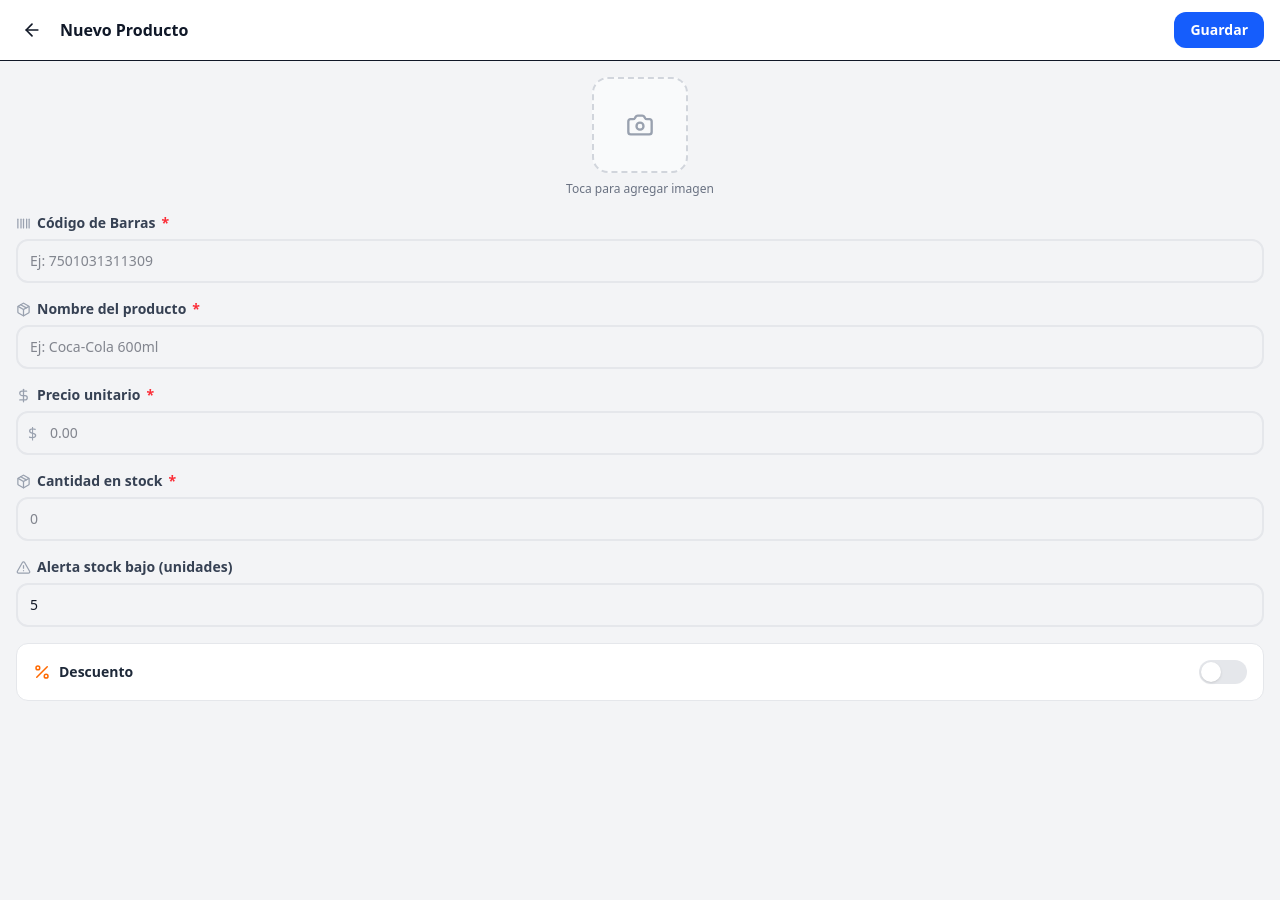
Scenario: ProductForm — name sanitization › strips special characters from the name field
Type "prod@uct$!" into the field with placeholder "Ej: Coca-Cola 600ml" at x=640, y=347, box [16,325,1264,369]
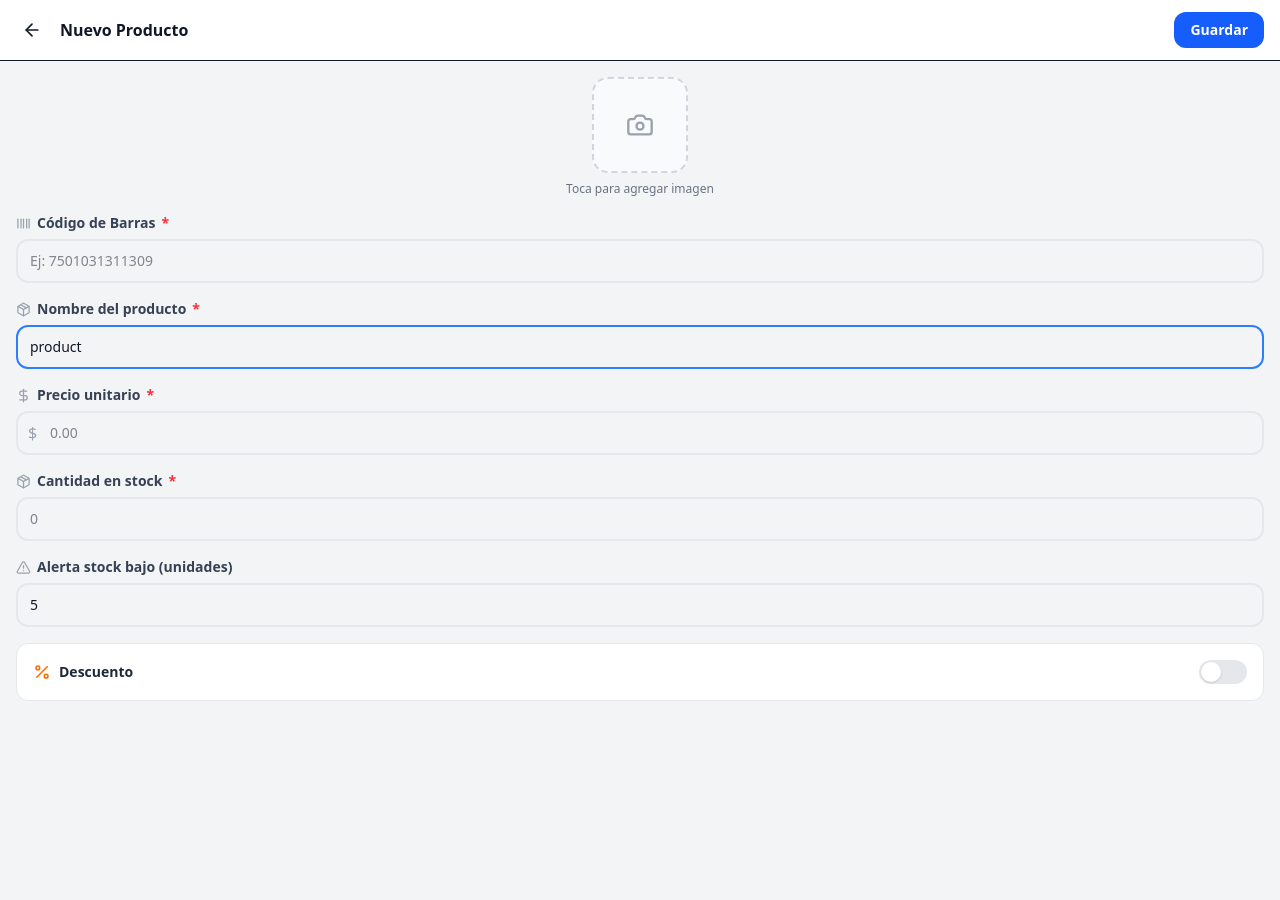
Check: the field with placeholder "Ej: Coca-Cola 600ml" holds "product", box [16,325,1264,369]
